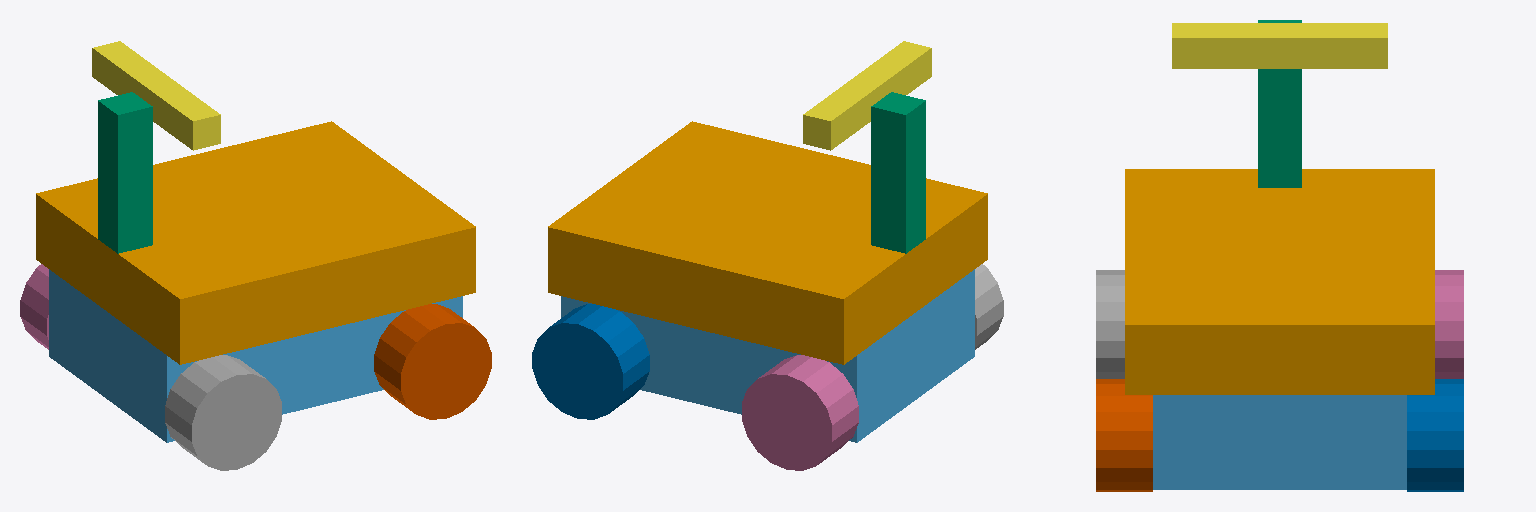
The robot description file, URDF, robot "bot":
<?xml version="1.0"?>
<robot name="bot">
<link name="body">
    <inertial>
        <mass value="3.0"/>
        <origin rpy="0 0 0" xyz="0 0 0.125"/>
        <inertia ixx="0.02882" ixy="0.0" ixz="0.0" iyy="0.02882" iyz="0.0" izz="0.045"/>
    </inertial>
    <visual>
        <origin rpy="-1.57079632675 0 0" xyz="0 0 0.19"/>
        <geometry>
            <mesh filename="cube.obj" scale="0.2125 0.045 0.1795"/>
        </geometry>
    </visual>
    <collision>
        <origin rpy="0 0 0" xyz="0 0 0.19"/>
        <geometry>
            <box size="0.425 0.425 0.095"/>
        </geometry>
    </collision>
</link>
<link name="motors_fused">
    <visual>
        <origin rpy="-1.57079632675 0 0" xyz="0 0 -0.06"/>
        <geometry>
            <mesh filename="cube.obj" scale="0.2125 0.06 0.1465"/>
        </geometry>
    </visual>
</link>
<link name="board">
    <visual>
        <origin rpy="-1.57079632675 0 0" xyz="0 0 0.095"/>
        <geometry>
            <mesh filename="cube.obj" scale="0.025 0.095 0.025"/>
        </geometry>
    </visual>
</link>
<link name="sensor">
    <visual>
        <origin rpy="-1.57079632675 0 0" xyz="0.02 0 0.02"/>
        <geometry>
            <mesh filename="cube.obj" scale="0.02 0.02 0.125"/>
        </geometry>
    </visual>
</link>
<link name="wheel_1_left">
    <inertial>
        <mass value="0.75"/>
        <origin rpy="1.57079632675 0 0" xyz="0 0.02 0.0"/>
        <inertia ixx="0.000667" ixy="0.0" ixz="0.0" iyy="0.000667" iyz="0.0" izz="0.001134"/>
    </inertial>
    <visual>
        <origin rpy="0 0 0" xyz="0 0.033 0"/>
        <geometry>
            <mesh filename="cylinder.obj" scale="0.065 0.066 0.065"/>
        </geometry>
    </visual>
    <collision>
        <origin rpy="1.57079632675 0 0" xyz="0 0.02 0.0"/>
        <geometry>
            <cylinder radius="0.065" length="0.066" />
        </geometry>
    </collision>
</link>
<link name="wheel_2_right">
    <inertial>
        <mass value="0.75"/>
        <origin rpy="1.57079632675 0 0" xyz="0 -0.02 0.0"/>
        <inertia ixx="0.000667" ixy="0.0" ixz="0.0" iyy="0.000667" iyz="0.0" izz="0.001134"/>
    </inertial>
    <visual>
        <origin rpy="0 0 0" xyz="0 -0.033 0"/>
        <geometry>
            <mesh filename="cylinder.obj" scale="0.065 0.066 0.065"/>
        </geometry>
    </visual>
    <collision>
        <origin rpy="1.57079632675 0 0" xyz="0 -0.033 0.0"/>
        <geometry>
            <cylinder radius="0.065" length="0.066"/>
        </geometry>
    </collision>
</link>
<link name="wheel_3_left">
    <inertial>
        <mass value="0.75"/>
        <origin rpy="1.57079632675 0 0" xyz="0 0.02 0.0"/>
        <inertia ixx="0.000667" ixy="0.0" ixz="0.0" iyy="0.000667" iyz="0.0" izz="0.001134"/>
    </inertial>
    <visual>
        <origin rpy="0 0 0" xyz="0 0.033 0"/>
        <geometry>
            <mesh filename="cylinder.obj" scale="0.065 0.066 0.065"/>
        </geometry>
    </visual>
    <collision>
        <origin rpy="1.57079632675 0 0" xyz="0 0.033 0.0"/>
        <geometry>
            <cylinder radius="0.065" length="0.066"/>
        </geometry>
    </collision>
</link>
<link name="wheel_4_right">
    <inertial>
        <mass value="0.75"/>
        <origin rpy="1.57079632675 0 0" xyz="0 -0.02 0.0"/>
        <inertia ixx="0.000667" ixy="0.0" ixz="0.0" iyy="0.000667" iyz="0.0" izz="0.001134"/>
    </inertial>
    <visual>
        <origin rpy="0 0 0" xyz="0 -0.033 0"/>
        <geometry>
            <mesh filename="cylinder.obj" scale="0.065 0.066 0.065"/>
        </geometry>
    </visual>
    <collision>
        <origin rpy="1.57079632675 0 0" xyz="0 -0.033 0.0"/>
        <geometry>
            <cylinder radius="0.065" length="0.066"/>
        </geometry>
    </collision>
</link>
<joint name="body_motors_glue" type="fixed">
    <parent link="body"/>
    <child link="motors_fused"/>
    <origin xyz="0.0 0.0 0.145"/>
</joint>
<joint name="body_board_glue" type="fixed">
    <parent link="body"/>
    <child link="board"/>
    <origin xyz="-0.1875 0 0.235"/>
</joint>
<joint name="board_sensor_glue" type="fixed">
    <parent link="board"/>
    <child link="sensor"/>
    <origin xyz="0.025 0 0.17"/>
</joint>
<joint name="wheel_1_axis" type="continuous">
    <parent link="body"/>
    <child link="wheel_1_left"/>
    <origin xyz="0.15 0.1465 0.065" rpy="0 0 0" />
    <axis xyz="0 1 0" rpy="0 0 0" />
    <dynamics damping="0.0" friction="0.0" />
</joint>
<joint name="wheel_2_axis" type="continuous">
    <parent link="body"/>
    <child link="wheel_2_right"/>
    <origin xyz="0.15 -0.1465 0.065" rpy="0 0 0" />
    <axis xyz="0 1 0" rpy="0 0 0" />
    <dynamics damping="0.0" friction="0.0" />
</joint>
<joint name="wheel_3_axis" type="continuous">
    <parent link="body"/>
    <child link="wheel_3_left"/>
    <origin xyz="-0.15 0.1465 0.065" rpy="0 0 0" />
    <axis xyz="0 1 0" rpy="0 0 0" />
    <dynamics damping="0.0" friction="0.0" />
</joint>
<joint name="wheel_4_axis" type="continuous">
    <parent link="body"/>
    <child link="wheel_4_right"/>
    <origin xyz="-0.15 -0.1465 0.065" rpy="0 0 0" />
    <axis xyz="0 1 0" rpy="0 0 0" />
    <dynamics damping="0.0" friction="0.0" />
</joint>
</robot>

--- Render facts (derived) ---
3 views of the same robot in one strip: view 1: azimuth 30°, elevation 25°; view 2: azimuth 150°, elevation 25°; view 3: azimuth 270°, elevation 25° (orthographic).
Model bot with 8 links and 7 joints (4 continuous, 3 fixed), rooted at body, posed all joints at 0.
Visible links, largest first — view 1: body, motors_fused, wheel_2_right, wheel_4_right, board, sensor, wheel_3_left; view 2: body, motors_fused, wheel_1_left, wheel_3_left, board, sensor, wheel_4_right; view 3: body, motors_fused, sensor, wheel_1_left, wheel_2_right, board, wheel_3_left, wheel_4_right.
Link boxes in pixels (left/top/right/bottom): body: left=36, top=121, right=475, bottom=364; motors_fused: left=49, top=269, right=462, bottom=442; wheel_2_right: left=374, top=304, right=491, bottom=419; wheel_4_right: left=165, top=355, right=281, bottom=470; board: left=98, top=92, right=152, bottom=253; sensor: left=92, top=41, right=220, bottom=150; wheel_3_left: left=20, top=264, right=48, bottom=349; body: left=548, top=121, right=987, bottom=364; motors_fused: left=561, top=269, right=974, bottom=442; wheel_1_left: left=532, top=304, right=649, bottom=419; wheel_3_left: left=742, top=355, right=858, bottom=470; board: left=871, top=92, right=925, bottom=253; sensor: left=803, top=41, right=931, bottom=150; wheel_4_right: left=975, top=264, right=1003, bottom=349; body: left=1125, top=169, right=1434, bottom=394; motors_fused: left=1153, top=395, right=1406, bottom=489; sensor: left=1172, top=23, right=1387, bottom=68; wheel_1_left: left=1407, top=379, right=1463, bottom=491; wheel_2_right: left=1096, top=379, right=1152, bottom=491; board: left=1258, top=20, right=1301, bottom=187; wheel_3_left: left=1435, top=270, right=1463, bottom=378; wheel_4_right: left=1096, top=270, right=1124, bottom=378.
Bounding box of the posed robot: 0.43 × 0.425 × 0.445 m (x, y, z).
8 mesh visuals loaded from 2 distinct referenced files (2 OBJ).
